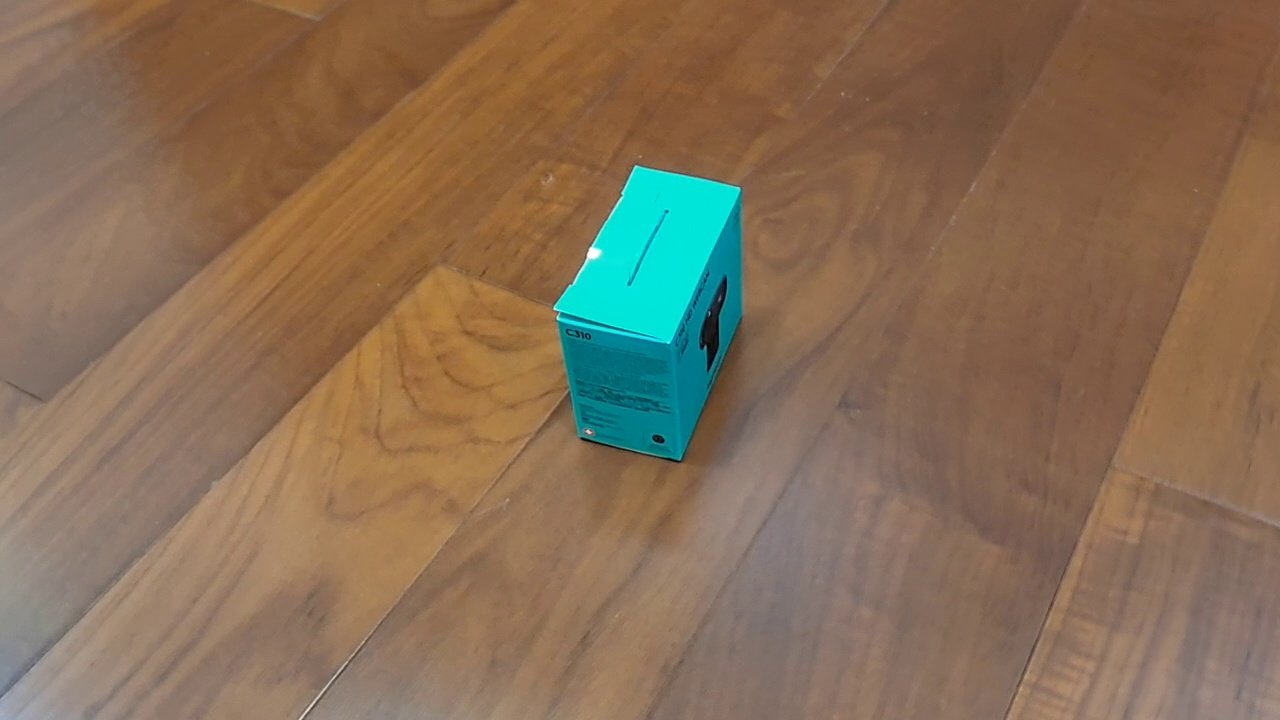webcam: (551, 163, 746, 463)
